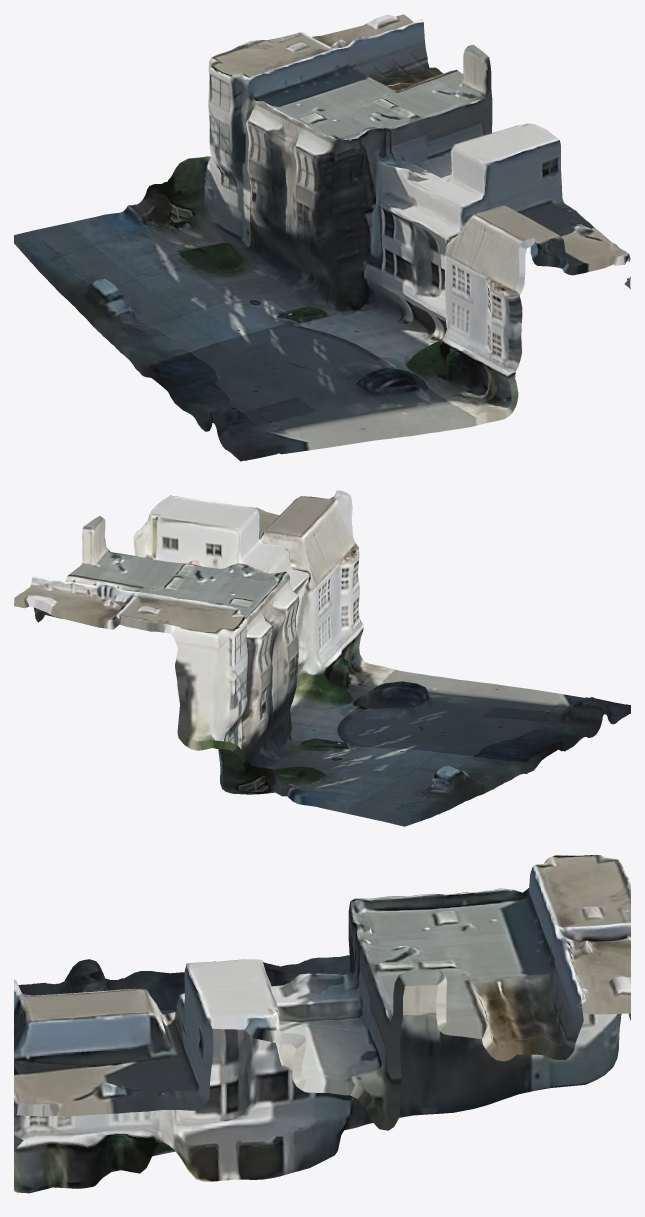
The model's file is z20-167717-405199-h0-yup-uvflip-v3-world.glb.
3 renders of one model, top to bottom at view 1: azimuth 30°, elevation 25°; view 2: azimuth 150°, elevation 25°; view 3: azimuth 270°, elevation 25°, orthographic. The views are drawn at different scales.
Bounding box in the file's own units: 30.2 × 16.92 × 30.32.
Materials: 1 (1 with a texture image).
